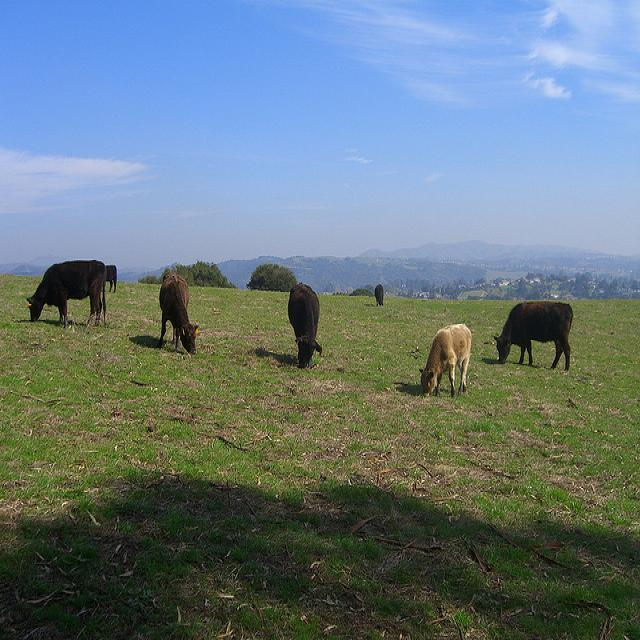cow: (492, 300, 572, 371), (25, 260, 107, 327), (416, 322, 470, 398), (154, 268, 197, 356), (286, 282, 321, 366), (103, 263, 116, 291), (373, 281, 383, 304)
